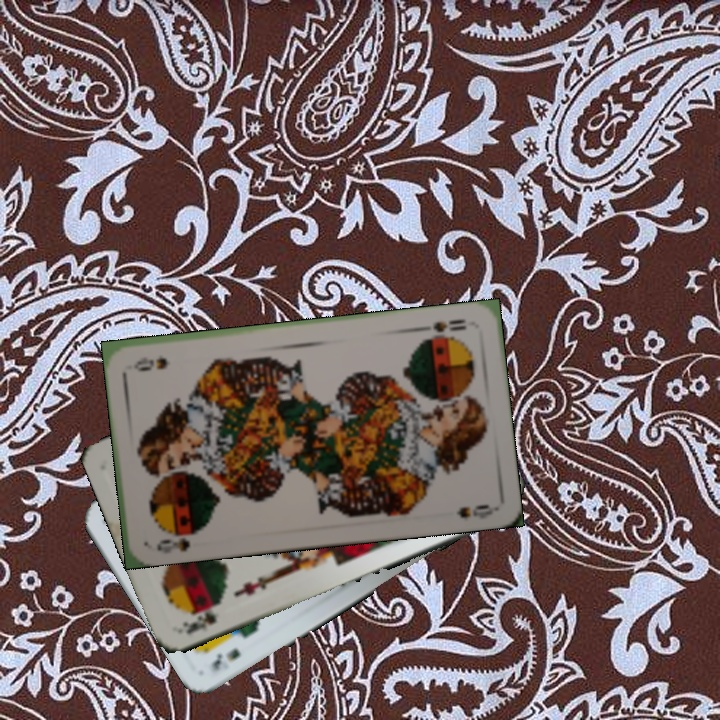EK: (207, 644, 243, 673)
SK: (178, 598, 224, 637)
SO: (152, 525, 206, 556), (416, 315, 469, 341)
